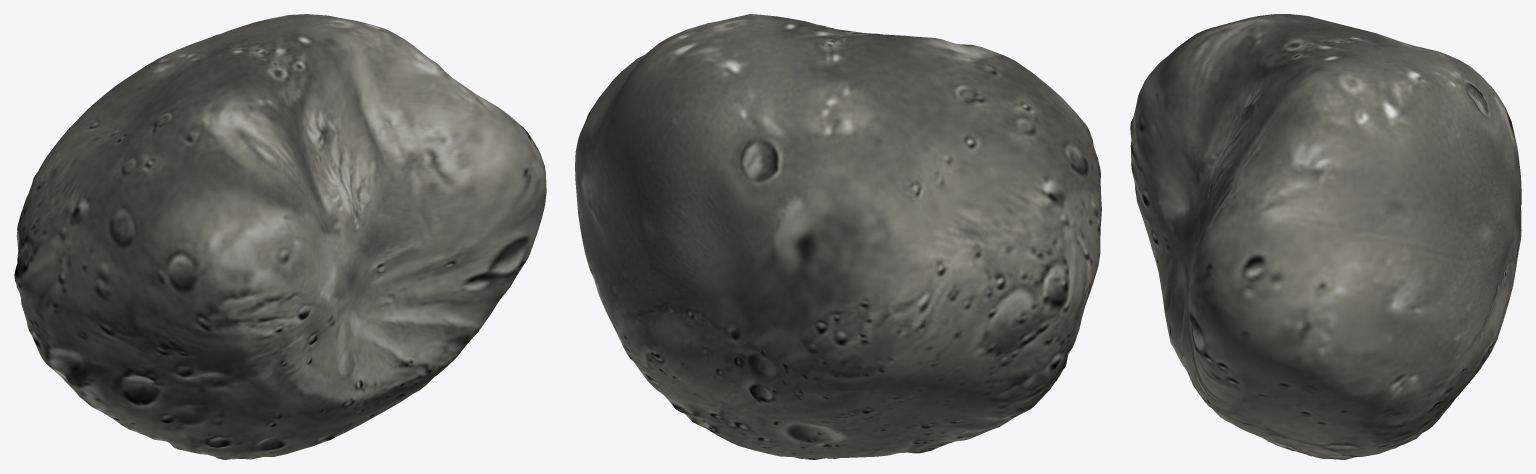
The model's file is deimos.glb.
3 views of the same model, side by side, from view 1: azimuth 30°, elevation 25°; view 2: azimuth 150°, elevation 25°; view 3: azimuth 270°, elevation 25° (orthographic). The views are drawn at different scales.
Visible parts, largest first — view 1: deimos; view 2: deimos; view 3: deimos.
Boxes of the visible parts, bbox=[...] form: deimos: bbox=[14, 14, 546, 459]; deimos: bbox=[575, 14, 1101, 459]; deimos: bbox=[1130, 14, 1521, 459].
Size of the model in its own units: 15.01 by 11.86 by 10.51.
1 material, 1 textured.
